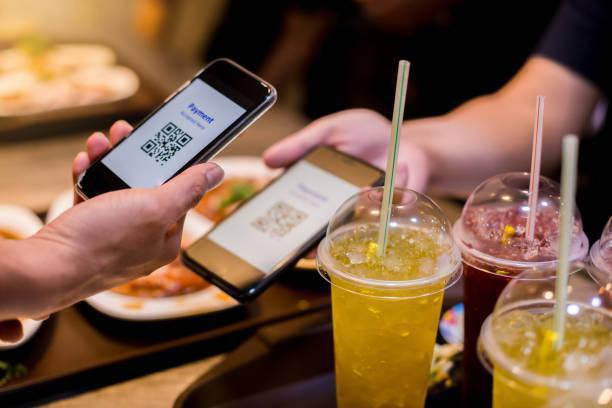qr_code: (249, 200, 310, 242), (140, 121, 193, 166)
